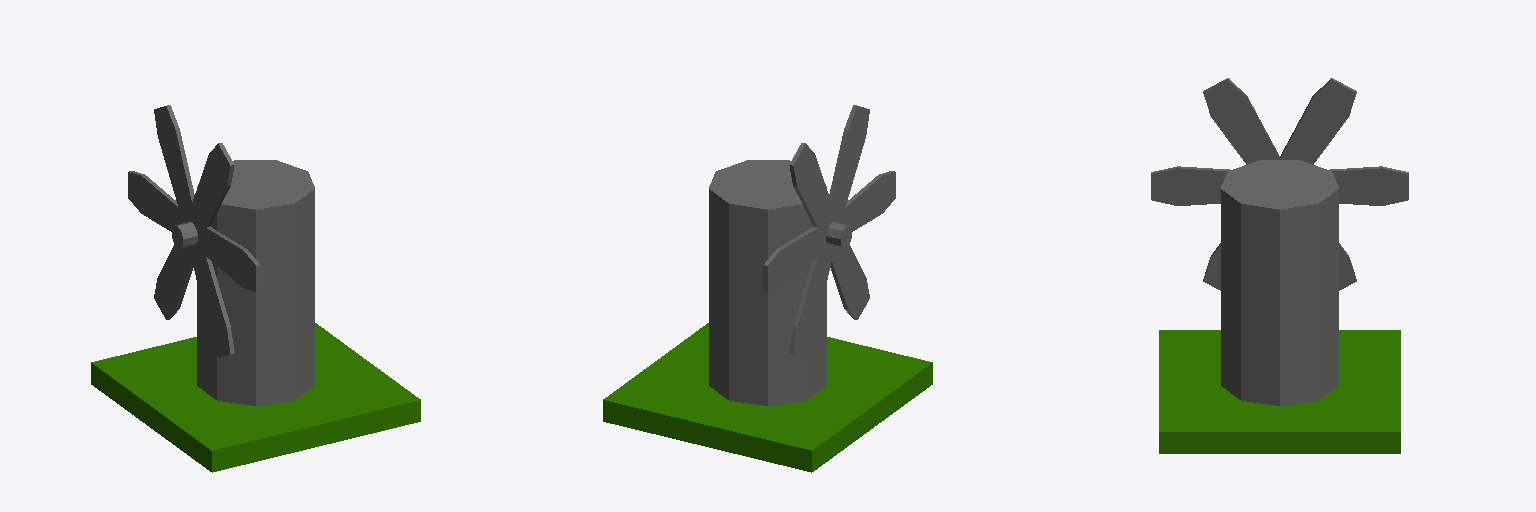
The model's file is Farm0.obj.
The picture shows the model from 3 angles: view 1: azimuth 30°, elevation 25°; view 2: azimuth 150°, elevation 25°; view 3: azimuth 270°, elevation 25°; orthographic projection.
Parts seen in each view (by area): view 1: Tilebase108, Cylinder040, Box698, Box701, Box700, Box699, Box702, Box697, Cylinder041; view 2: Tilebase108, Cylinder040, Box699, Box702, Box698, Box697, Box700, Box701, Cylinder041; view 3: Cylinder040, Tilebase108, Box699, Box698, Box700, Box697.
Boxes of the visible parts, x1=… form: Tilebase108: x1=91, y1=323, x2=420, y2=472; Cylinder040: x1=197, y1=160, x2=314, y2=406; Box698: x1=154, y1=105, x2=195, y2=222; Box701: x1=192, y1=238, x2=234, y2=357; Box700: x1=196, y1=223, x2=260, y2=291; Box699: x1=189, y1=143, x2=234, y2=237; Box702: x1=154, y1=244, x2=195, y2=319; Box697: x1=128, y1=171, x2=187, y2=231; Cylinder041: x1=172, y1=222, x2=211, y2=248; Tilebase108: x1=603, y1=323, x2=932, y2=472; Cylinder040: x1=709, y1=160, x2=826, y2=406; Box699: x1=828, y1=105, x2=869, y2=222; Box702: x1=789, y1=238, x2=834, y2=357; Box698: x1=789, y1=143, x2=833, y2=237; Box697: x1=763, y1=223, x2=827, y2=291; Box700: x1=836, y1=171, x2=895, y2=231; Box701: x1=828, y1=244, x2=869, y2=319; Cylinder041: x1=812, y1=222, x2=851, y2=248; Cylinder040: x1=1221, y1=160, x2=1338, y2=406; Tilebase108: x1=1159, y1=330, x2=1400, y2=453; Box699: x1=1203, y1=78, x2=1279, y2=164; Box698: x1=1280, y1=78, x2=1356, y2=164; Box700: x1=1151, y1=166, x2=1229, y2=205; Box697: x1=1330, y1=166, x2=1408, y2=205.
Bounding box in the file's own units: 10 × 13.44 × 10.64.